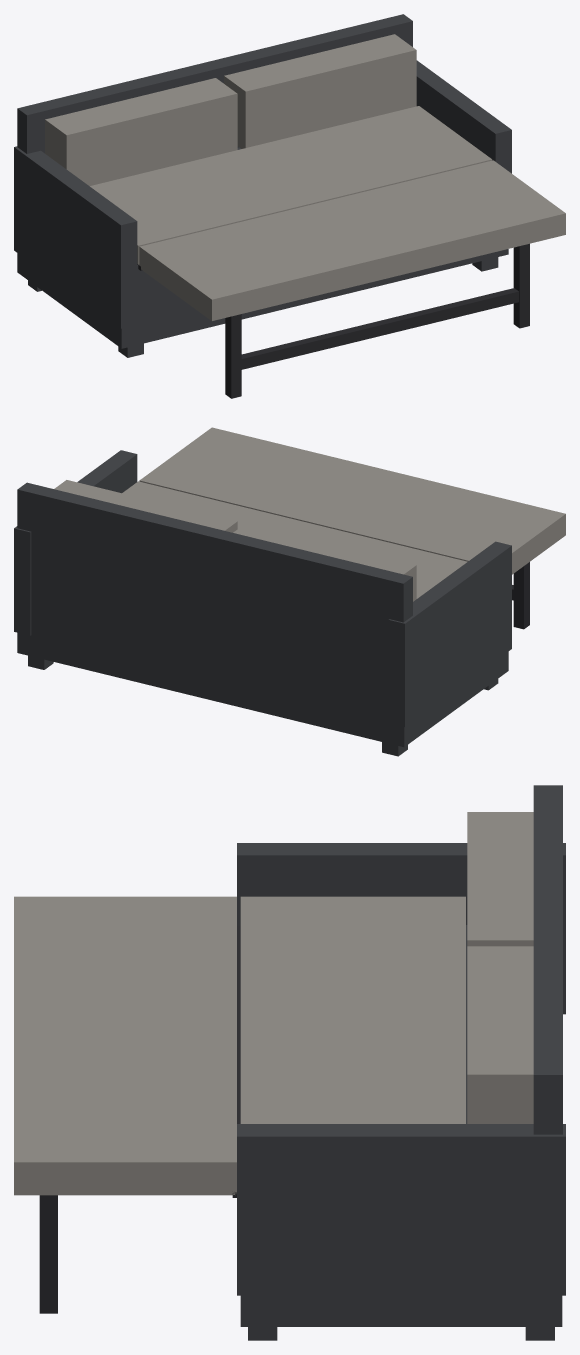
The model's file is FN_Sofa_Bed.obj.
3 views of the same model, one above another, from view 1: azimuth 30°, elevation 25°; view 2: azimuth 150°, elevation 25°; view 3: azimuth 270°, elevation 25° (orthographic). The views are drawn at different scales.
Visible parts, largest first — view 1: FN_Sofa_Bed; view 2: FN_Sofa_Bed; view 3: FN_Sofa_Bed.
Part boxes in pixels (left/top/right/bottom): FN_Sofa_Bed: left=14, top=14, right=565, bottom=398; FN_Sofa_Bed: left=14, top=427, right=565, bottom=756; FN_Sofa_Bed: left=14, top=785, right=565, bottom=1340.
Size of the model in its own units: 1.9 by 0.82 by 1.51.
Materials: 1 (1 with a texture image).
